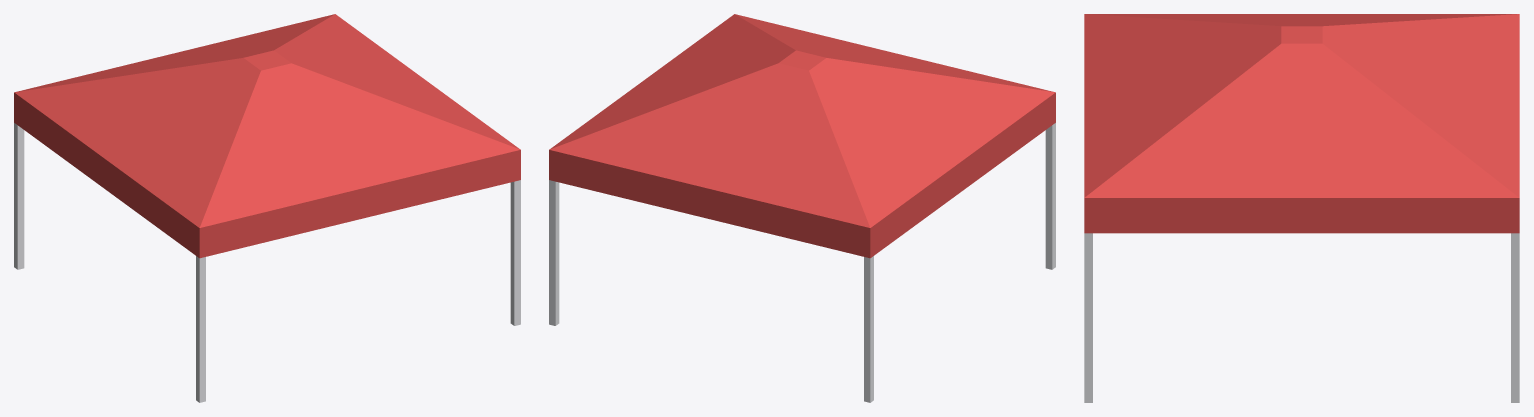
File: tent.glb
3 views of the same model, side by side, from view 1: azimuth 30°, elevation 25°; view 2: azimuth 150°, elevation 25°; view 3: azimuth 270°, elevation 25° (orthographic). The views are drawn at different scales.
Parts seen in each view (by area): view 1: tent(Clone); view 2: tent(Clone); view 3: tent(Clone).
Boxes of the visible parts, <box> form: tent(Clone): <box>14,14,520,402</box>; tent(Clone): <box>549,14,1055,402</box>; tent(Clone): <box>1084,14,1519,402</box>.
Size of the model in its own units: 1 by 0.7 by 1.
